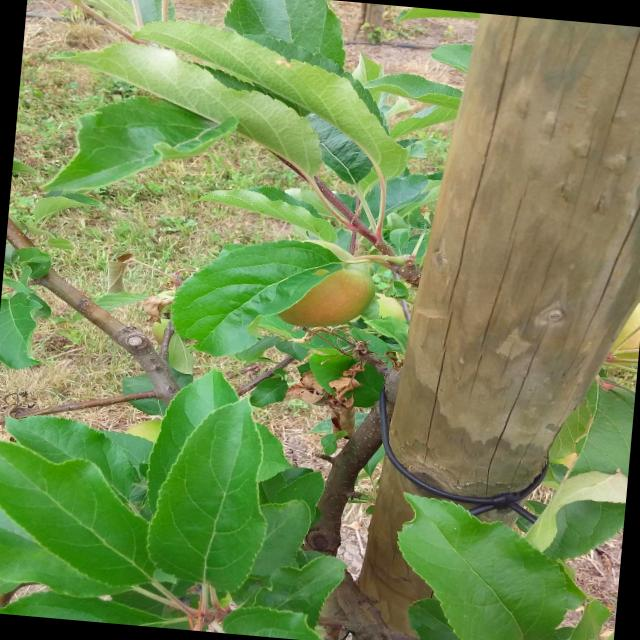-FireBlight-: (292, 335, 372, 437)
